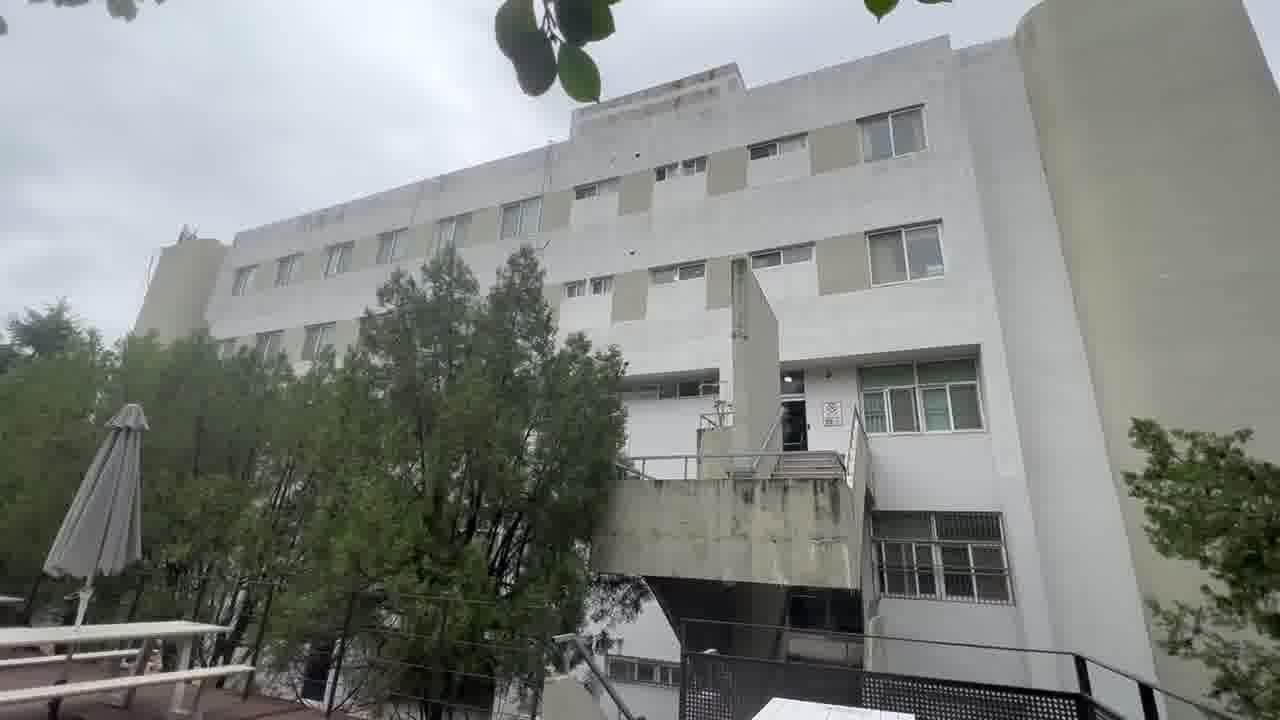low: (624, 64, 1107, 588)
